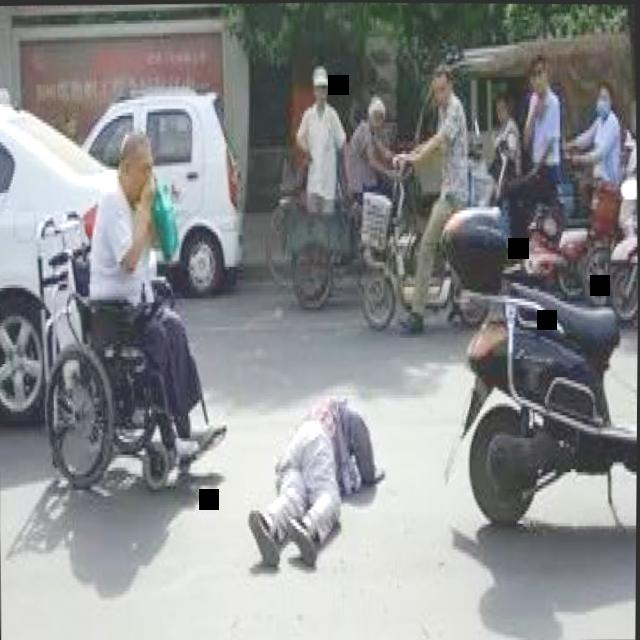Fall-Detected: (234, 364, 391, 577)
